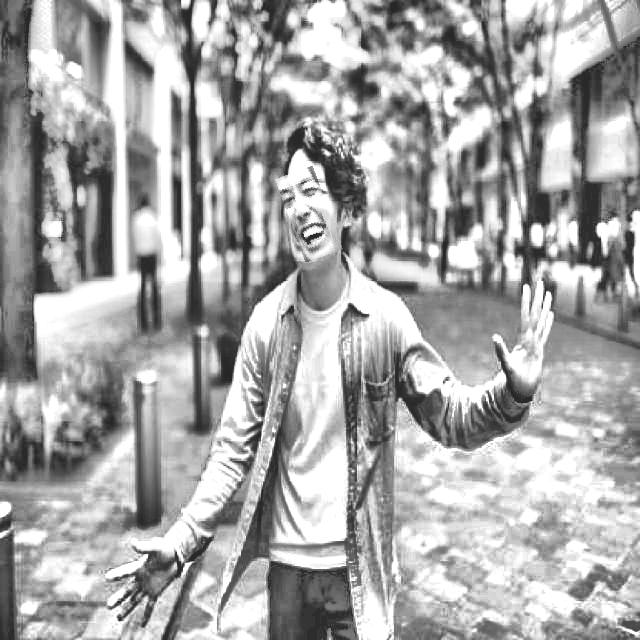happy: (282, 167, 336, 260)
